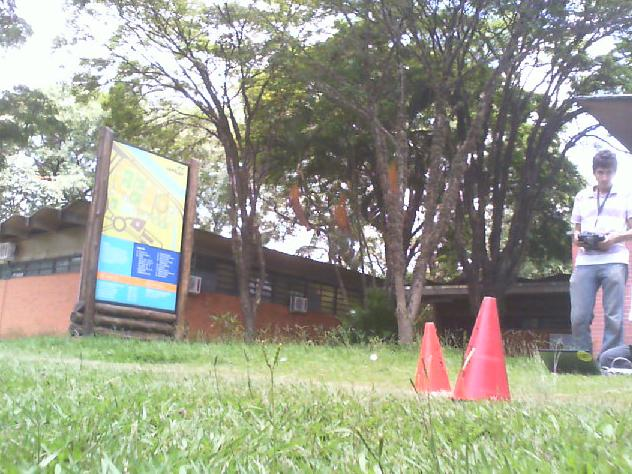0 cone: (448, 297, 512, 401), (410, 322, 453, 395)
